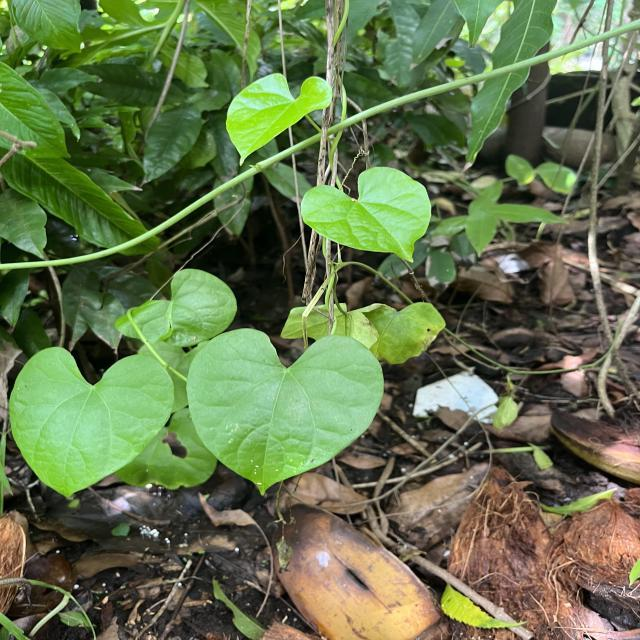Tinospora cordifolia: (185, 326, 386, 498), (8, 344, 176, 502), (298, 165, 432, 264), (224, 72, 334, 168)
